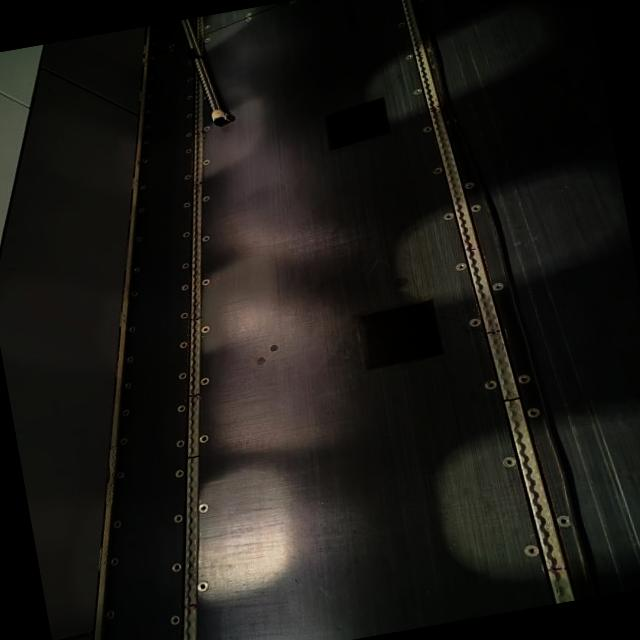Missing Fastener: (553, 508, 576, 531), (520, 540, 546, 560), (192, 576, 214, 596), (192, 498, 213, 516), (171, 274, 192, 292), (499, 452, 520, 470), (163, 614, 184, 630), (168, 400, 190, 414), (195, 371, 214, 387), (523, 406, 544, 420), (177, 197, 196, 212), (194, 274, 214, 288), (173, 367, 190, 383), (489, 280, 508, 294), (170, 466, 188, 480), (466, 202, 484, 216), (453, 260, 471, 274), (170, 437, 189, 450), (176, 258, 195, 271), (198, 320, 213, 336), (464, 316, 484, 328), (168, 560, 185, 574), (195, 431, 212, 445), (175, 335, 192, 349), (516, 370, 532, 384), (482, 378, 498, 392), (102, 608, 118, 622), (429, 163, 446, 176), (176, 228, 194, 240), (196, 192, 214, 204), (198, 156, 216, 168), (199, 231, 213, 246), (176, 309, 192, 322), (170, 510, 187, 522), (440, 209, 456, 221), (107, 556, 121, 568), (401, 50, 416, 60), (395, 18, 408, 29), (200, 122, 214, 132), (410, 86, 424, 96), (419, 122, 433, 132), (114, 470, 128, 480), (184, 128, 195, 140), (202, 34, 214, 45), (110, 519, 122, 530), (181, 171, 193, 181), (464, 180, 476, 190), (130, 264, 142, 274), (124, 354, 136, 364), (119, 408, 131, 418), (118, 436, 130, 446), (122, 380, 133, 390), (132, 234, 144, 243), (137, 182, 147, 192), (186, 57, 196, 66), (243, 15, 254, 23), (243, 8, 254, 16), (129, 290, 140, 298), (186, 76, 196, 84), (128, 324, 138, 332), (185, 112, 194, 120), (184, 147, 194, 154), (136, 207, 146, 214), (186, 94, 196, 100), (143, 124, 153, 130), (142, 138, 152, 144), (202, 24, 211, 30), (140, 157, 149, 163), (148, 54, 156, 60), (145, 108, 153, 114), (168, 42, 175, 48), (147, 76, 154, 82), (288, 0, 297, 4), (146, 94, 154, 98), (150, 40, 156, 45), (168, 48, 174, 52), (152, 28, 158, 32)
